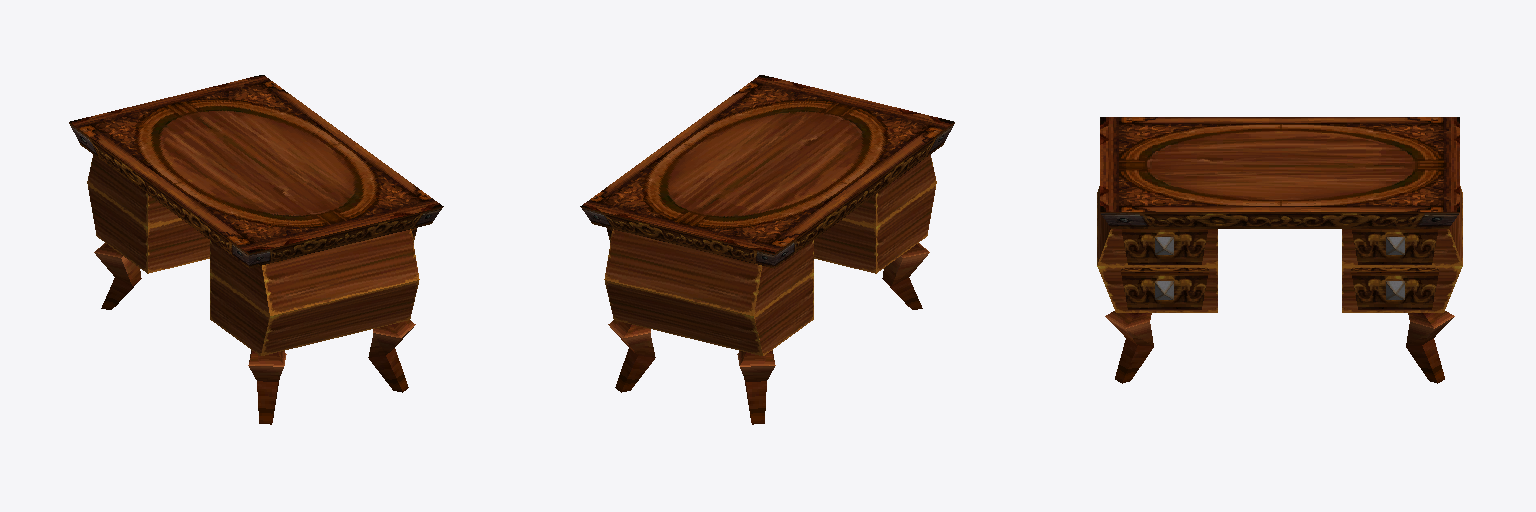
3 renders of one model, left to right at view 1: azimuth 30°, elevation 25°; view 2: azimuth 150°, elevation 25°; view 3: azimuth 270°, elevation 25°, orthographic.
Visible parts, largest first — view 1: object 1; view 2: object 1; view 3: object 1.
Part boxes in pixels (x1,y1,x2,y2): object 1: (69, 75, 443, 424); object 1: (580, 75, 954, 424); object 1: (1097, 117, 1462, 383).
Size of the model in its own units: 1.95 by 1.76 by 3.18.
Materials: 1 (1 with a texture image).